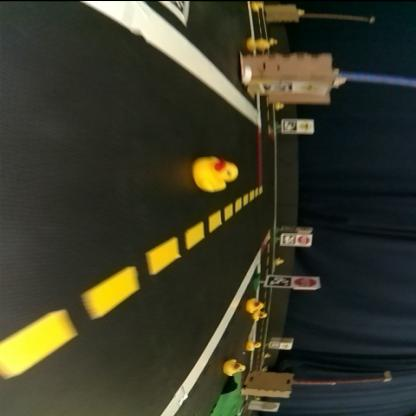Duckie: (194, 157, 240, 191), (224, 359, 245, 375), (246, 298, 264, 312), (247, 340, 263, 350)
Intersection sign: (300, 120, 314, 130)
QR code: (268, 275, 290, 288), (284, 236, 296, 245)
Stop sign: (296, 277, 318, 287), (298, 234, 312, 245)
